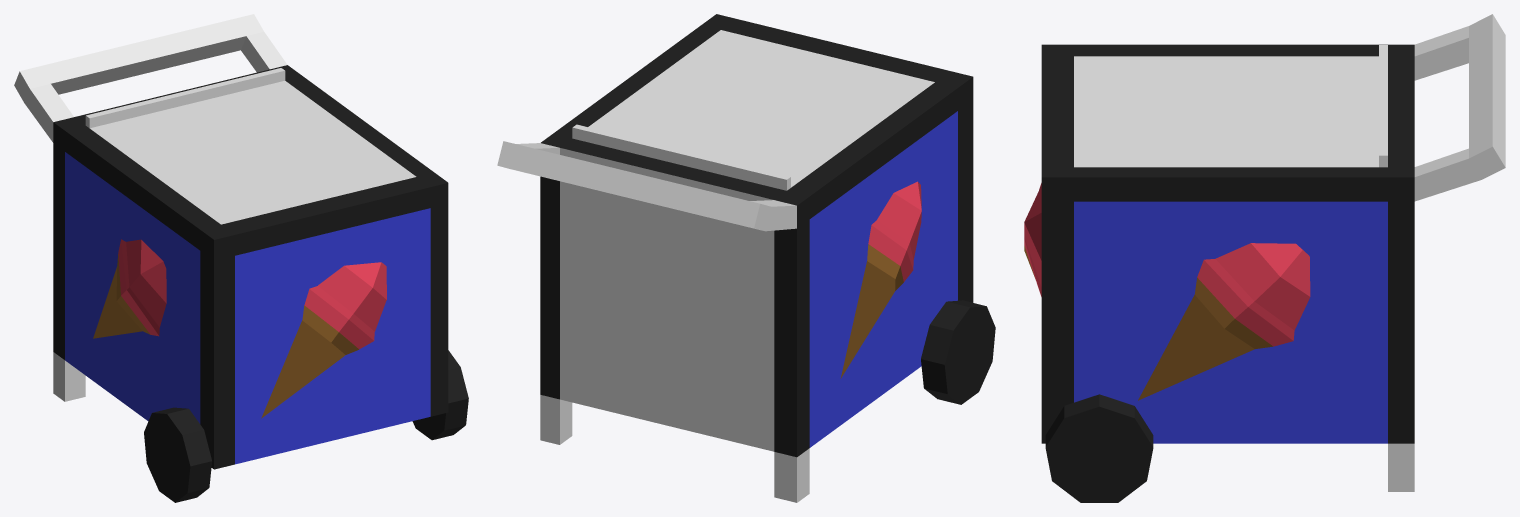
File: IceCreamCart.fbx
The picture shows the model from 3 angles, left to right: view 1: azimuth 30°, elevation 25°; view 2: azimuth 150°, elevation 25°; view 3: azimuth 270°, elevation 25°; orthographic projection. The views are drawn at different scales.
Visible parts, largest first — view 1: Cube; view 2: Cube; view 3: Cube.
Part boxes in pixels (bbox=[...]): Cube: bbox=[14, 14, 468, 502]; Cube: bbox=[497, 14, 995, 502]; Cube: bbox=[1024, 14, 1505, 502].
Bounding box in the file's own units: 680 × 695 × 878.
